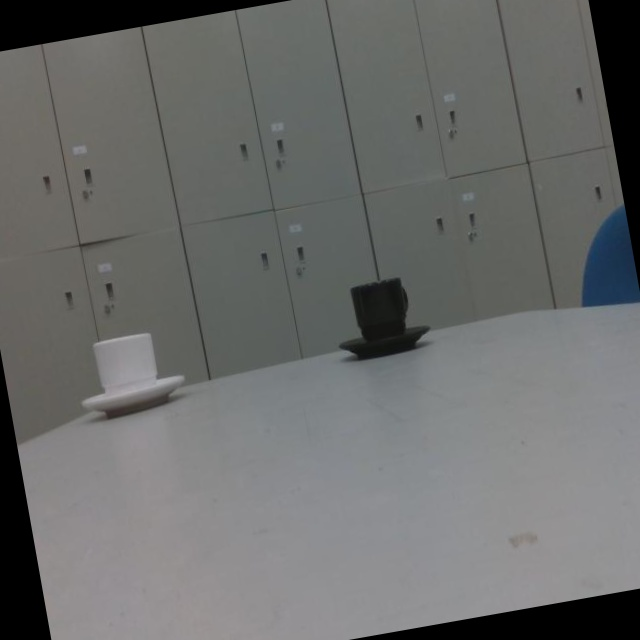black: (334, 278, 429, 357)
white: (76, 334, 186, 417)
